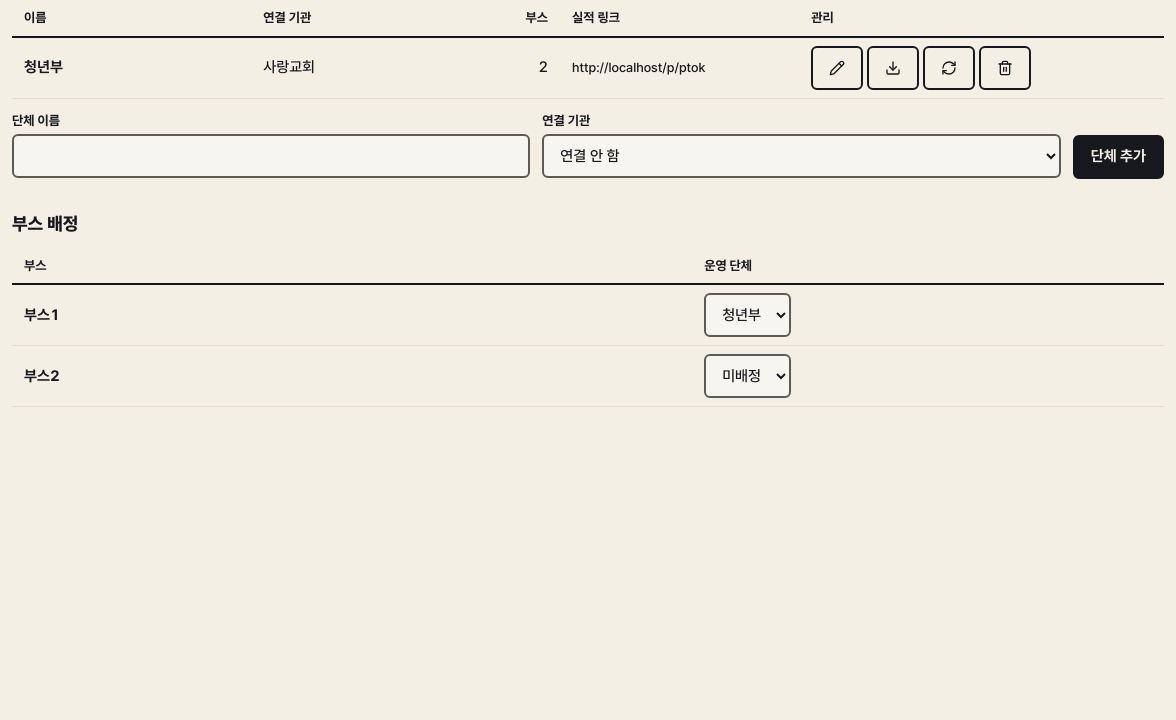
운영 단체 탭 › 배정이 실패하면 오류를 알리고 이전 값을 보인다
Select "청년부" in the dropdown named "부스2 운영 단체" at (748, 376), box [704,354,791,398]
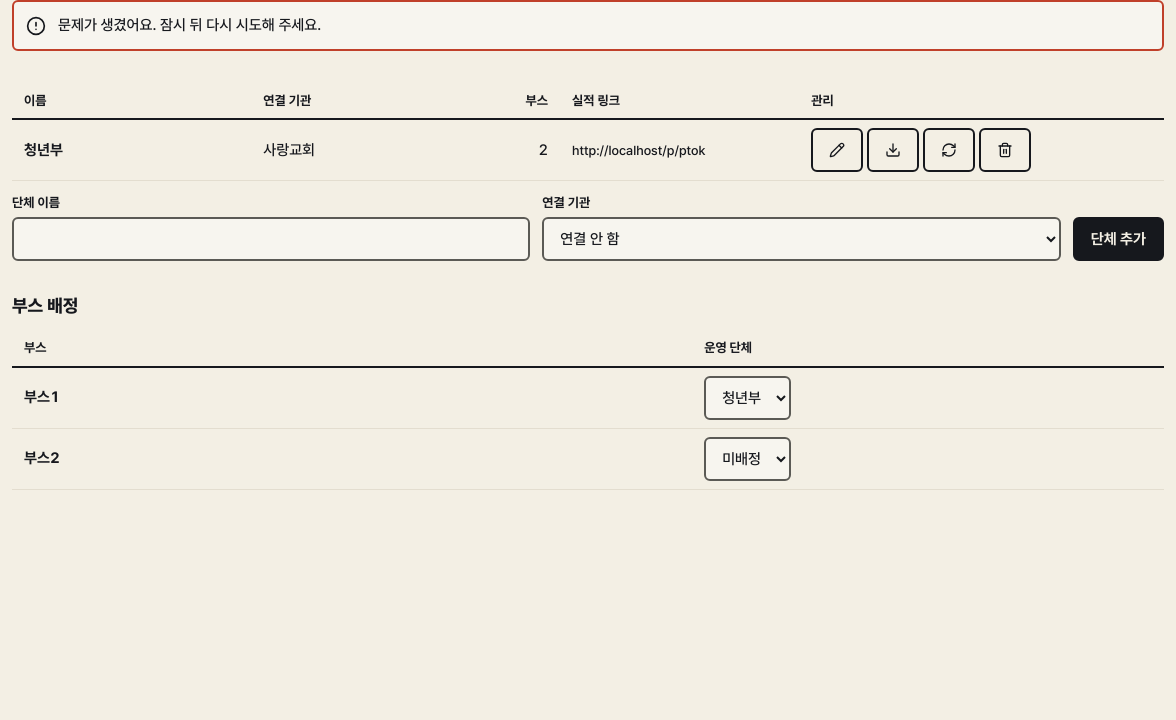
expect the message "문제가 생겼어요. 잠시 뒤 다시 시도해 주세요." is shown: met, box [12,0,1164,50]
